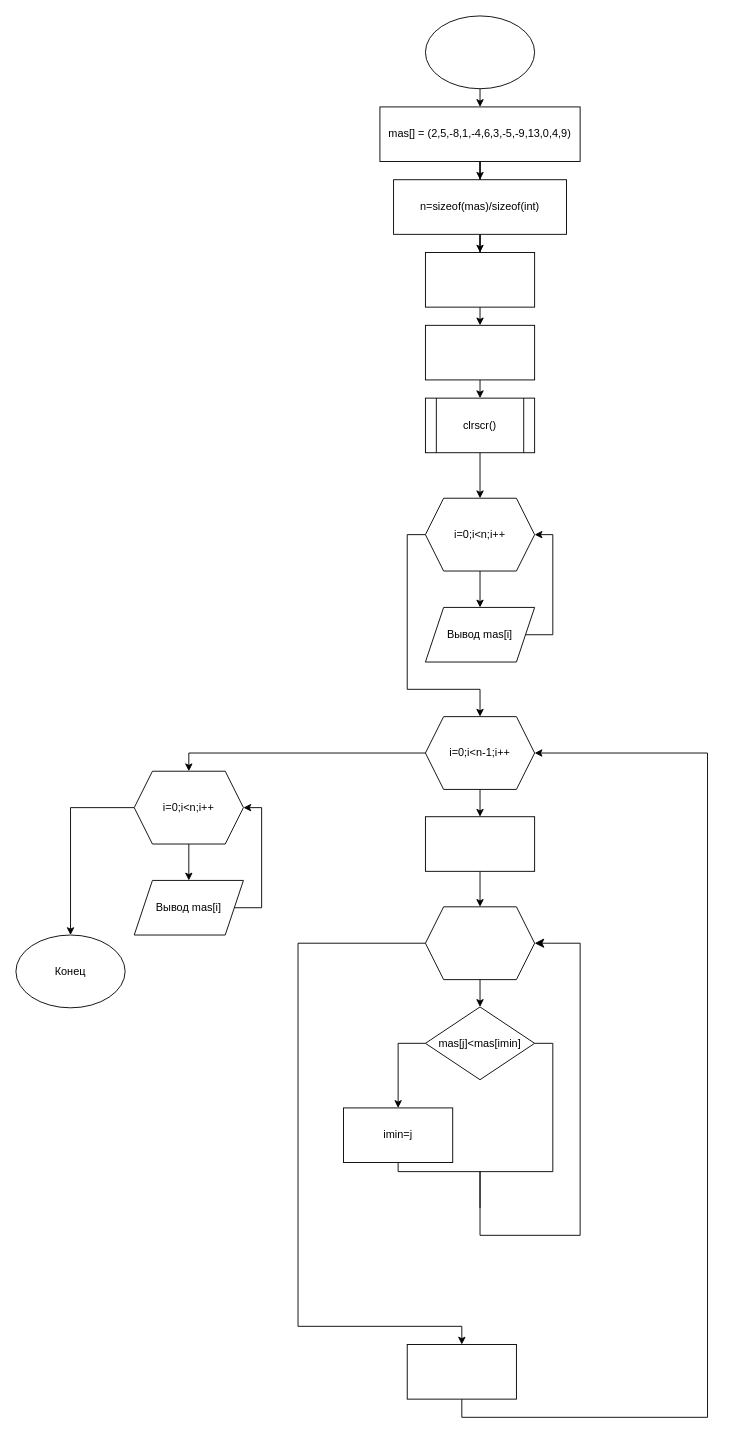
Image size: 731x1441. Some labels were removed from this diagram. Each missing label, with the centre of its shape:
imax=i=0: (480,352)
imin=i: (480,843)
imin=i=0: (480,279)
j=i+1;j<n;i++: (480,943)
t=mas[i] mas[i] = mas[imin] mas[imin]=t: (461,1371)
Начало: (480,52)
